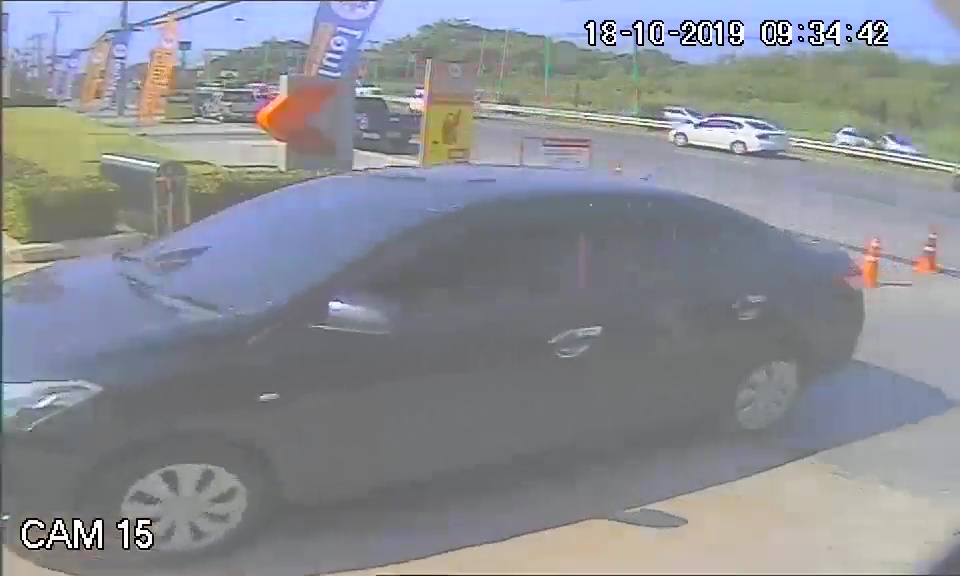sedan: (9, 162, 871, 541)
